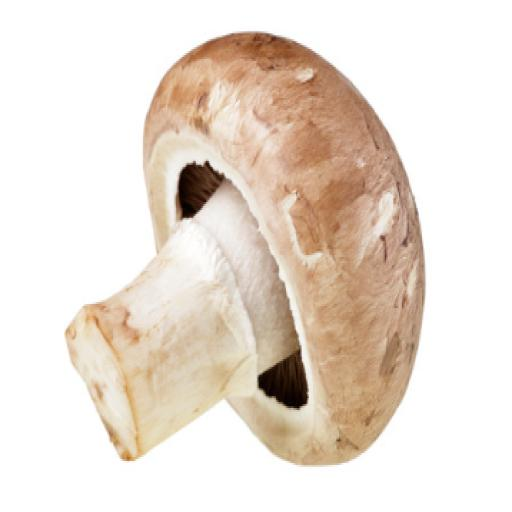Button Mushroom: (64, 20, 428, 482)
